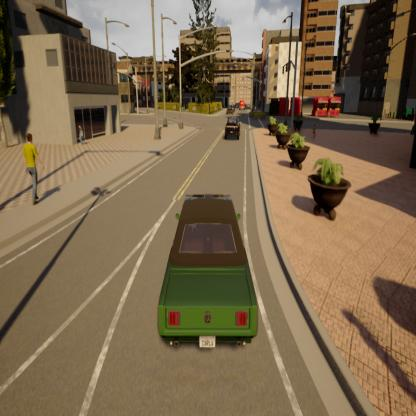Cars: (153, 183, 268, 367), (224, 116, 244, 142), (238, 97, 247, 112), (224, 104, 234, 113)
Pedestrian: (14, 128, 50, 211), (75, 121, 88, 151), (309, 120, 318, 147)
